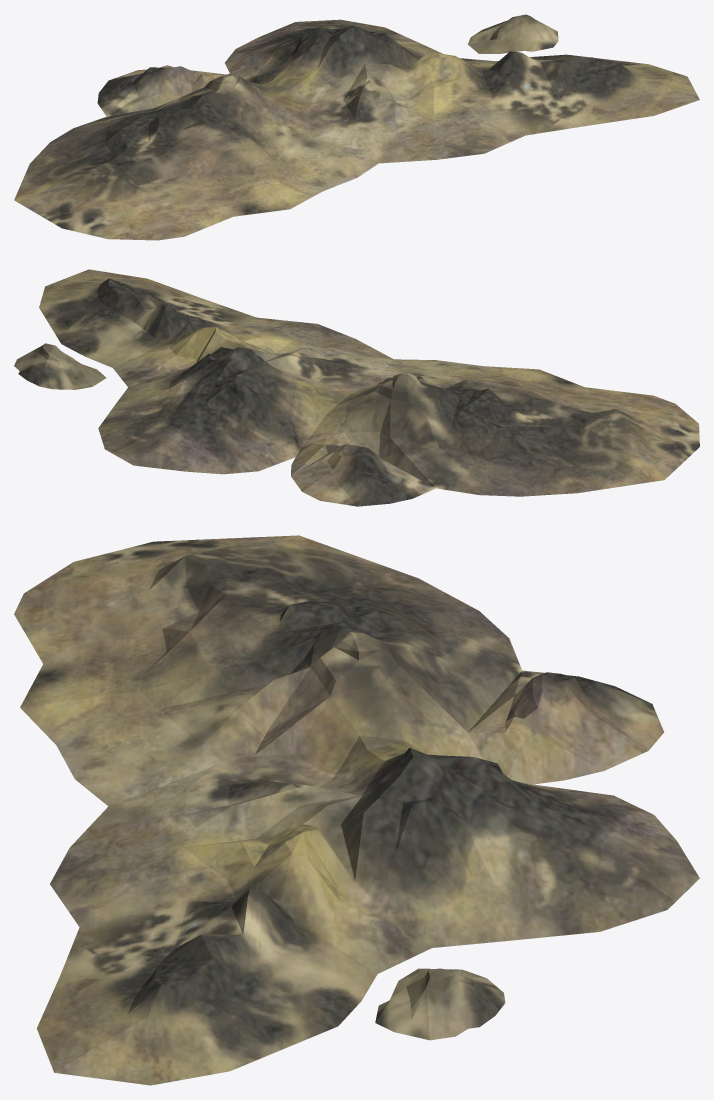
File: terrain.fbx
3 views of the same model, one above another, from view 1: azimuth 30°, elevation 25°; view 2: azimuth 150°, elevation 25°; view 3: azimuth 270°, elevation 25° (orthographic). The views are drawn at different scales.
Visible parts, largest first — view 1: AridDistanceTerrain.mo; view 2: AridDistanceTerrain.mo; view 3: AridDistanceTerrain.mo.
Part boxes in pixels (x1,y1,x2,y2): AridDistanceTerrain.mo: (14, 14, 699, 240); AridDistanceTerrain.mo: (14, 269, 699, 506); AridDistanceTerrain.mo: (14, 535, 699, 1085).
Size of the model in its own units: 401930 by 36491 by 211812.
